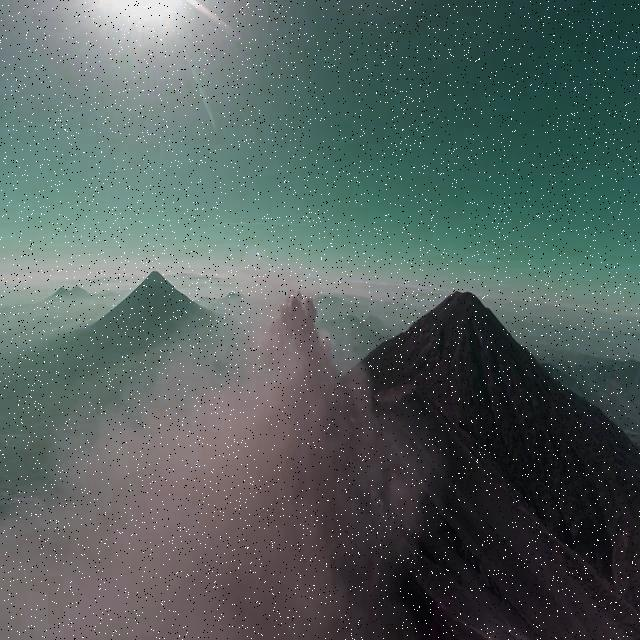Plume: (11, 275, 388, 640), (256, 287, 344, 385)
